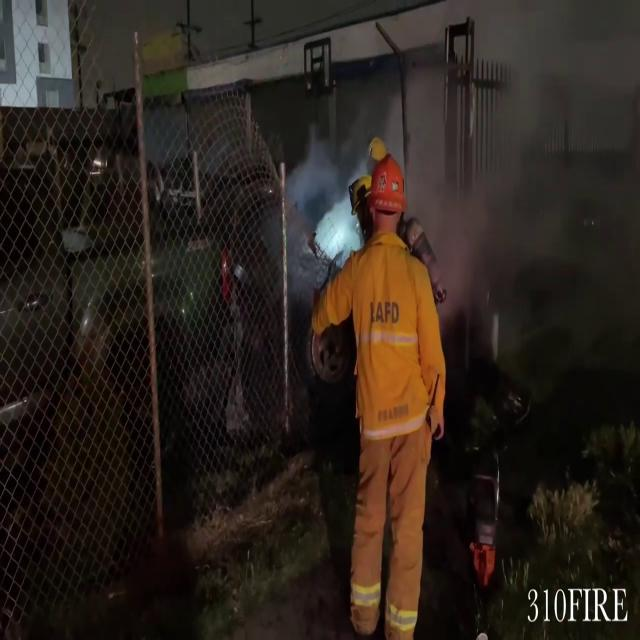Smoke: (408, 6, 640, 382)
